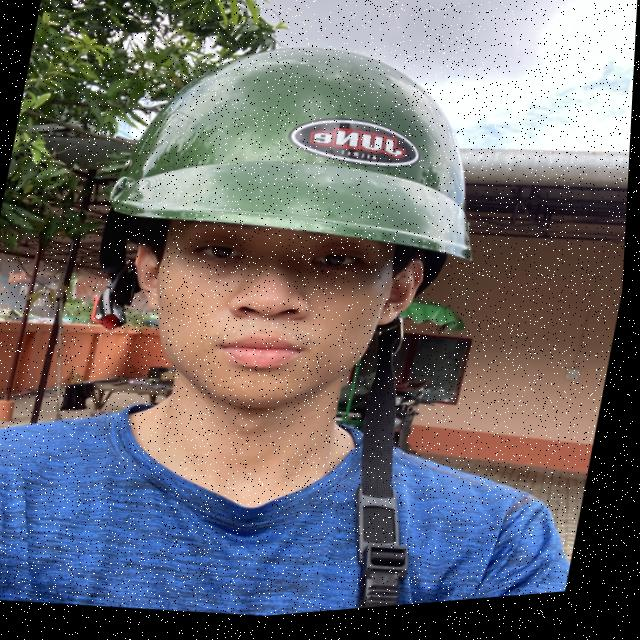illegal_helmet: (22, 6, 530, 637)
